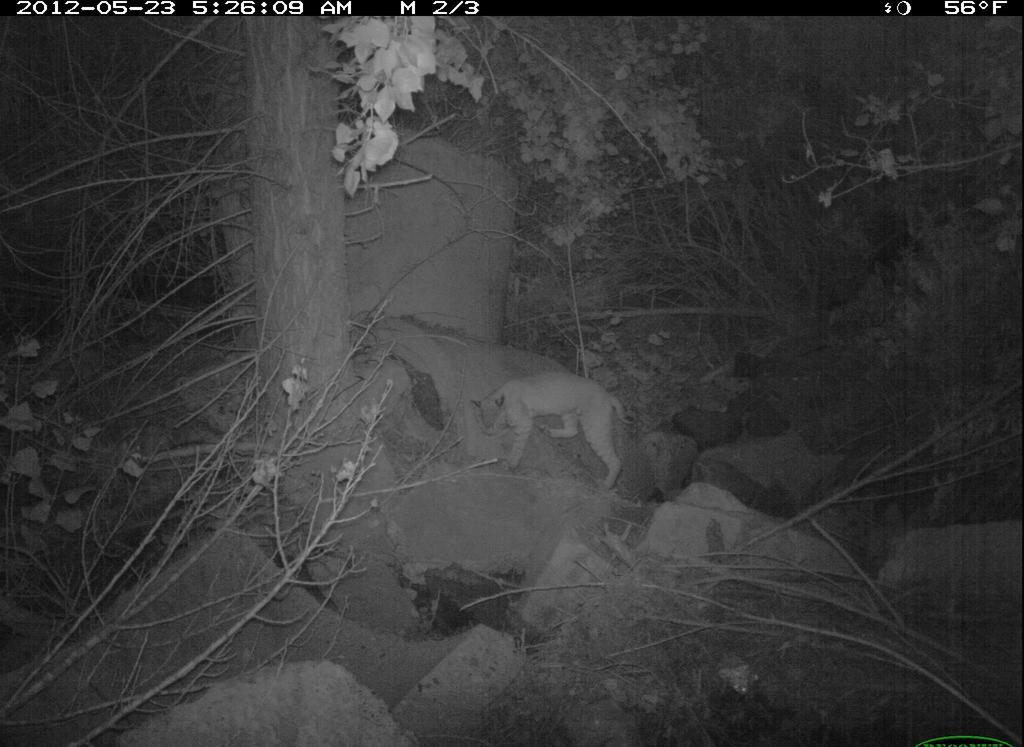bobcat: (468, 360, 643, 497)
